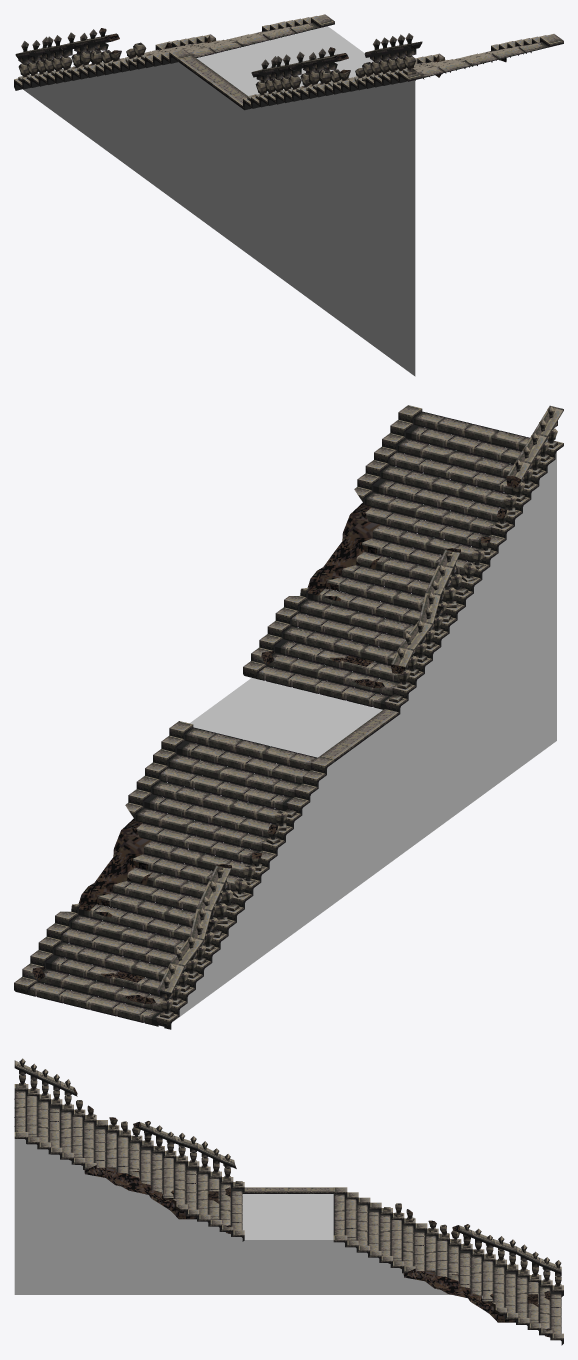
The model's file is EnvMdrMD_Castle_A_Stairs_A_Broken.FBX.
3 views of the same model, one above another, from view 1: azimuth 30°, elevation 25°; view 2: azimuth 150°, elevation 25°; view 3: azimuth 270°, elevation 25° (orthographic). The views are drawn at different scales.
Parts seen in each view (by area): view 1: EnvMdrMD_Castle_A_Stairs_A_Broken; view 2: EnvMdrMD_Castle_A_Stairs_A_Broken; view 3: EnvMdrMD_Castle_A_Stairs_A_Broken.
Boxes of the visible parts, left/top/right/bottom form: EnvMdrMD_Castle_A_Stairs_A_Broken: left=14, top=14, right=563, bottom=376; EnvMdrMD_Castle_A_Stairs_A_Broken: left=14, top=405, right=563, bottom=1029; EnvMdrMD_Castle_A_Stairs_A_Broken: left=14, top=1058, right=563, bottom=1345.
Size of the model in its own units: 550 by 1145 by 2412.
